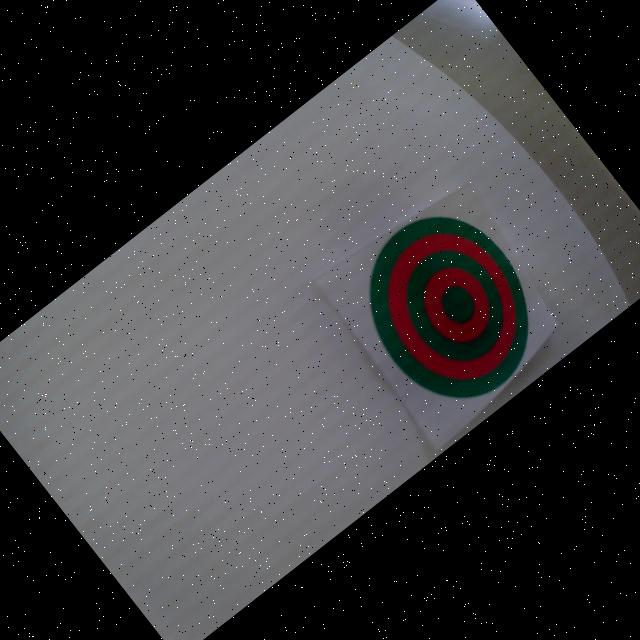COGNITIVE: (332, 187, 568, 428)
